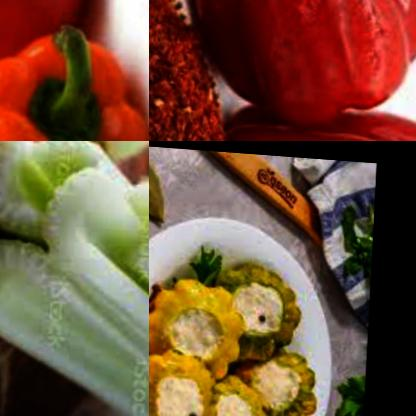bell pepper: (179, 0, 416, 131), (0, 15, 149, 141), (194, 88, 416, 141), (0, 0, 100, 103)
celery: (0, 141, 149, 416)
squash-patisson: (149, 267, 251, 380), (212, 263, 310, 357), (149, 342, 230, 416), (248, 349, 325, 416), (180, 368, 275, 416)
